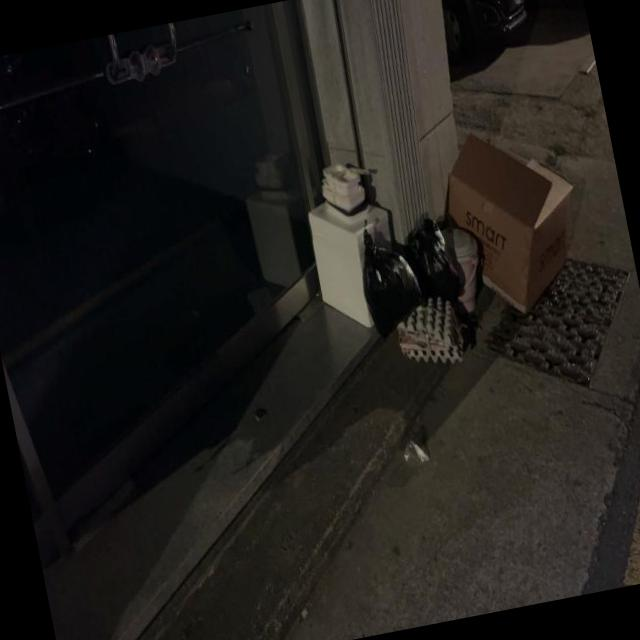Kardus: (427, 114, 598, 326)
